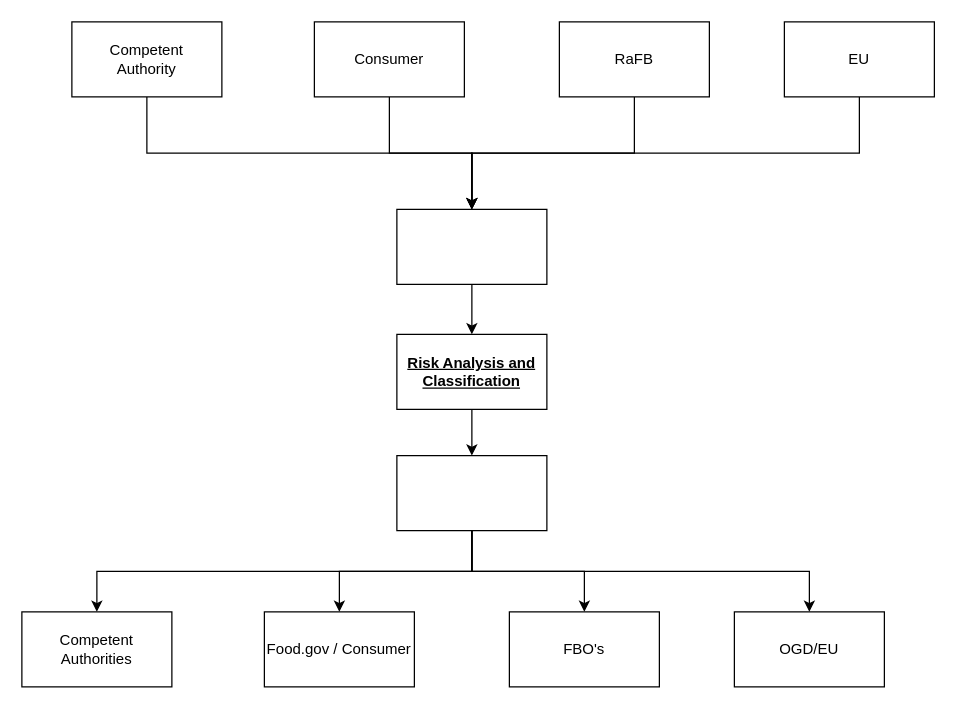
The diagram is 956 pixels wide and 709 high, and some of its shapes have lost their labels. Here are the shapes that lost their labels. From the top down, the centre of each, then its label:
At (x=471, y=246): "Incidents Team".
At (x=471, y=492): "Alerts".
